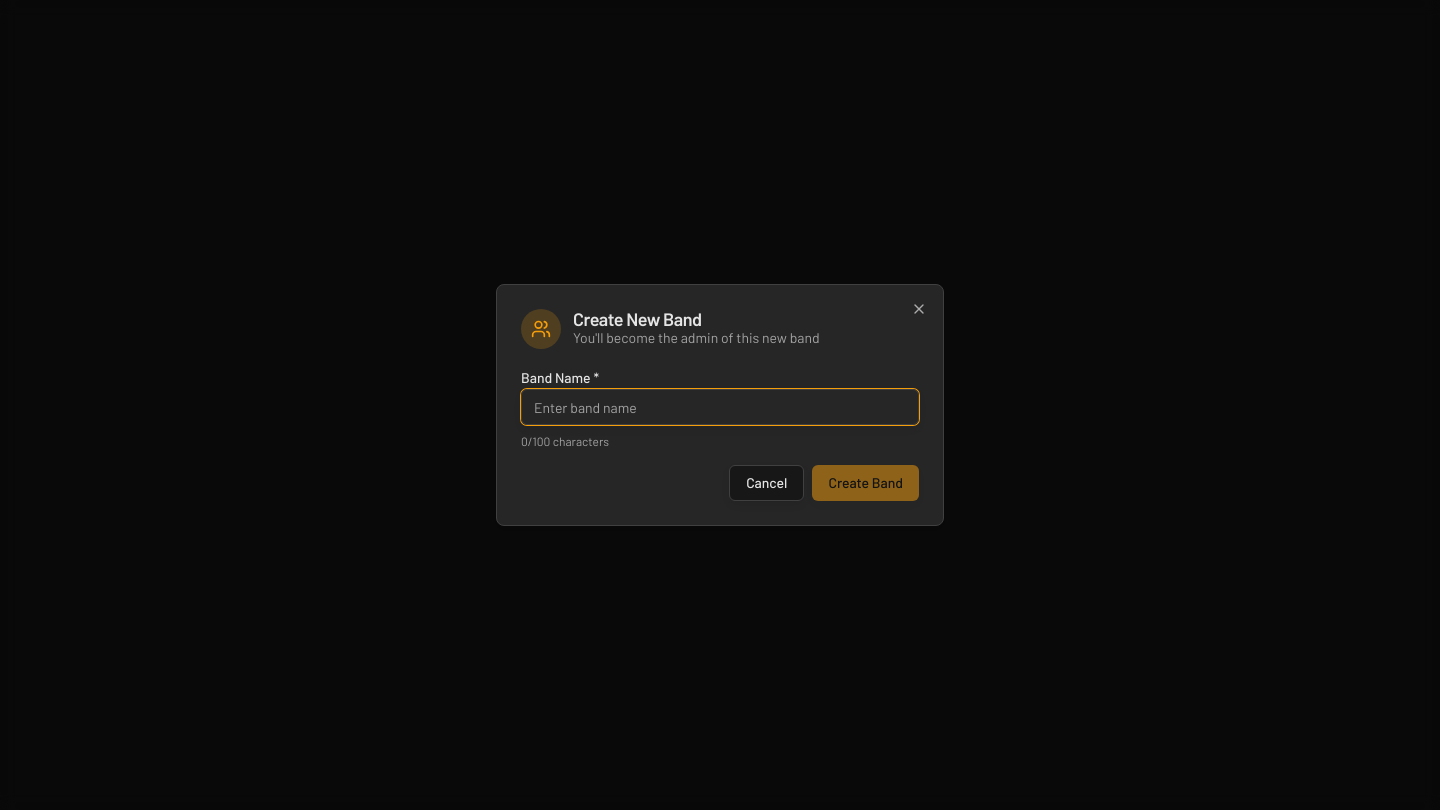
Test: CreateBandDialog › character validation › should show error for invalid characters
Step 1. Type "Test<script>" into the field labelled "Band Name *" → {"x": 720, "y": 407}, box [521,389,919,425]
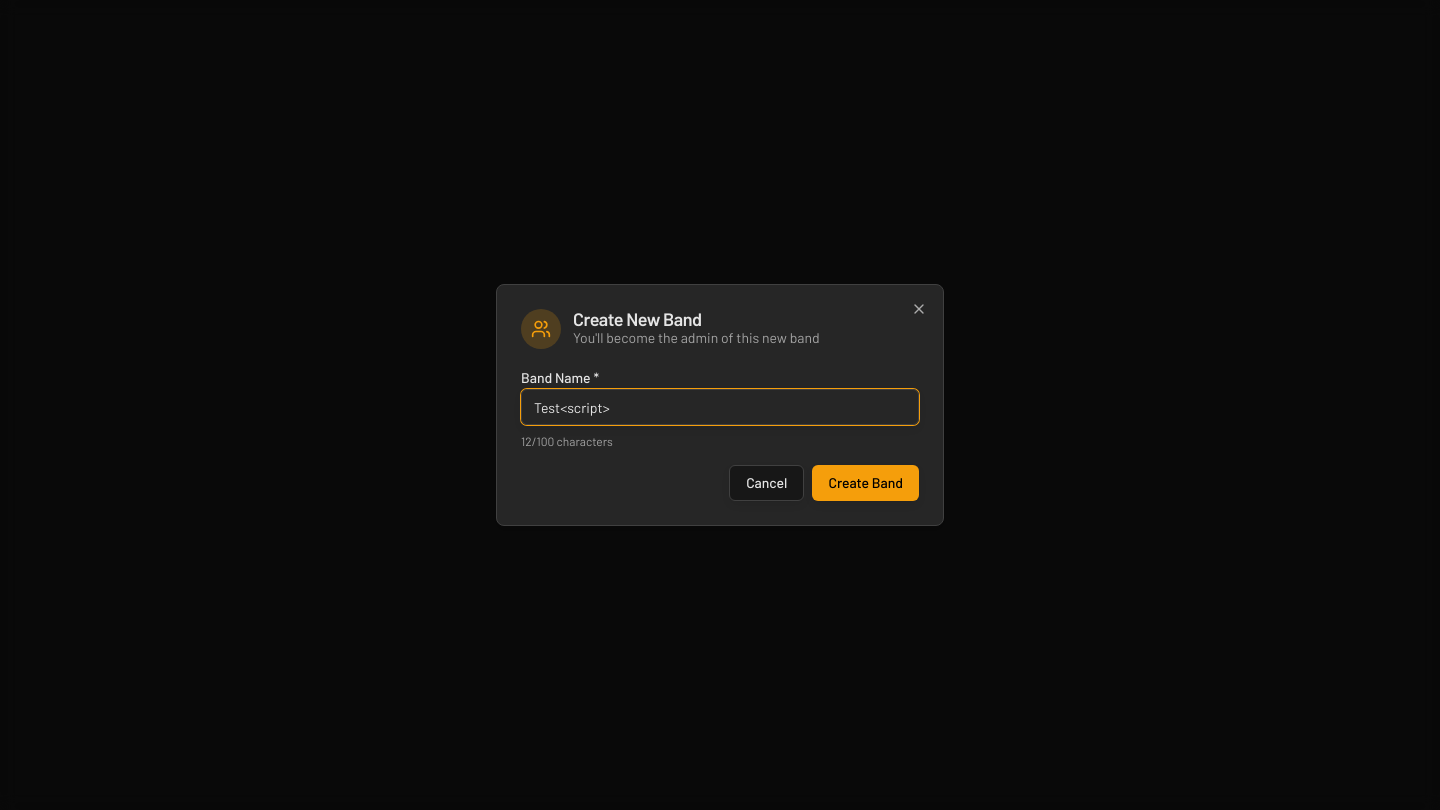
Step 2. Click the button "Create Band" → {"x": 866, "y": 483}, box [812,465,919,501]
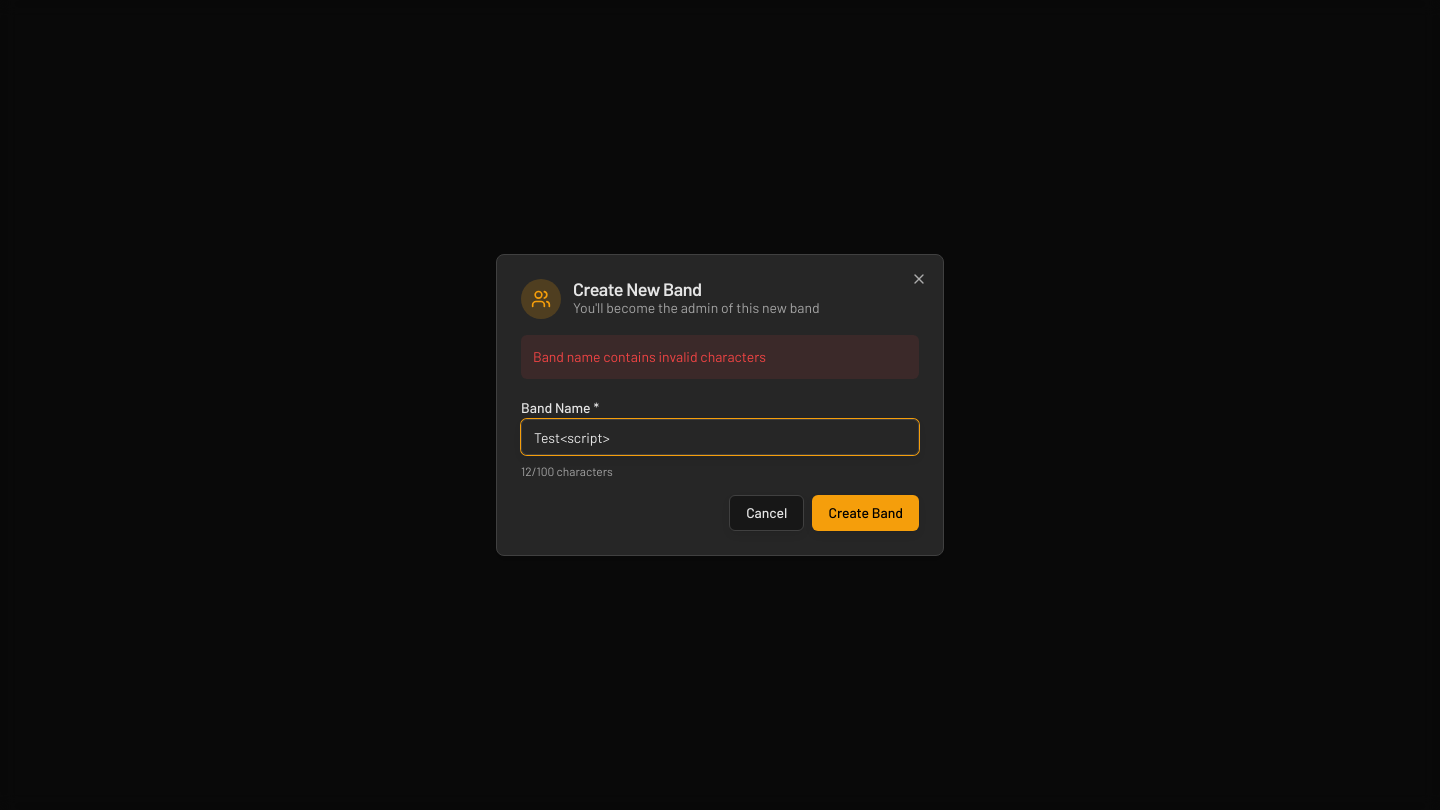
Result: the text "Band name contains invalid characters" is shown at [521,335,919,379]
